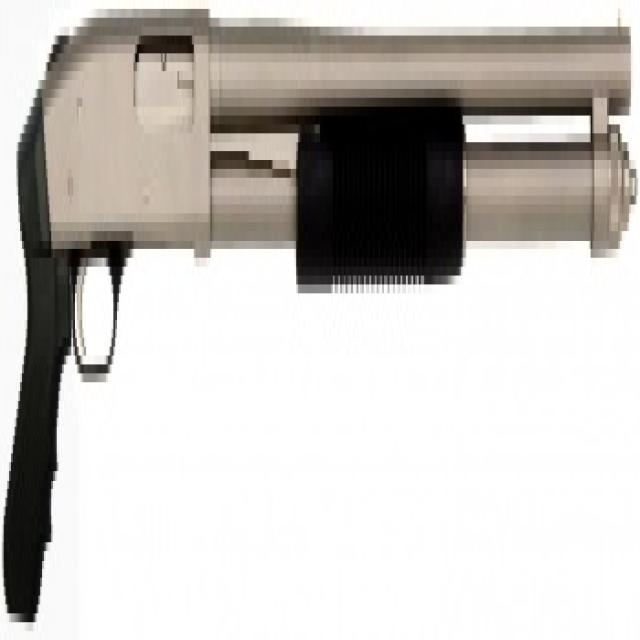rifle: (1, 1, 640, 623)
